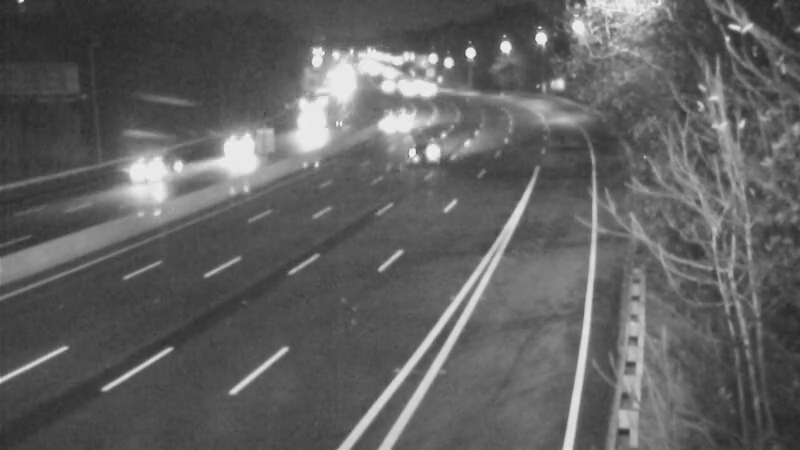vehicle: (99, 135, 179, 215), (368, 99, 418, 149), (389, 124, 439, 174), (210, 121, 260, 171), (287, 108, 337, 158)
